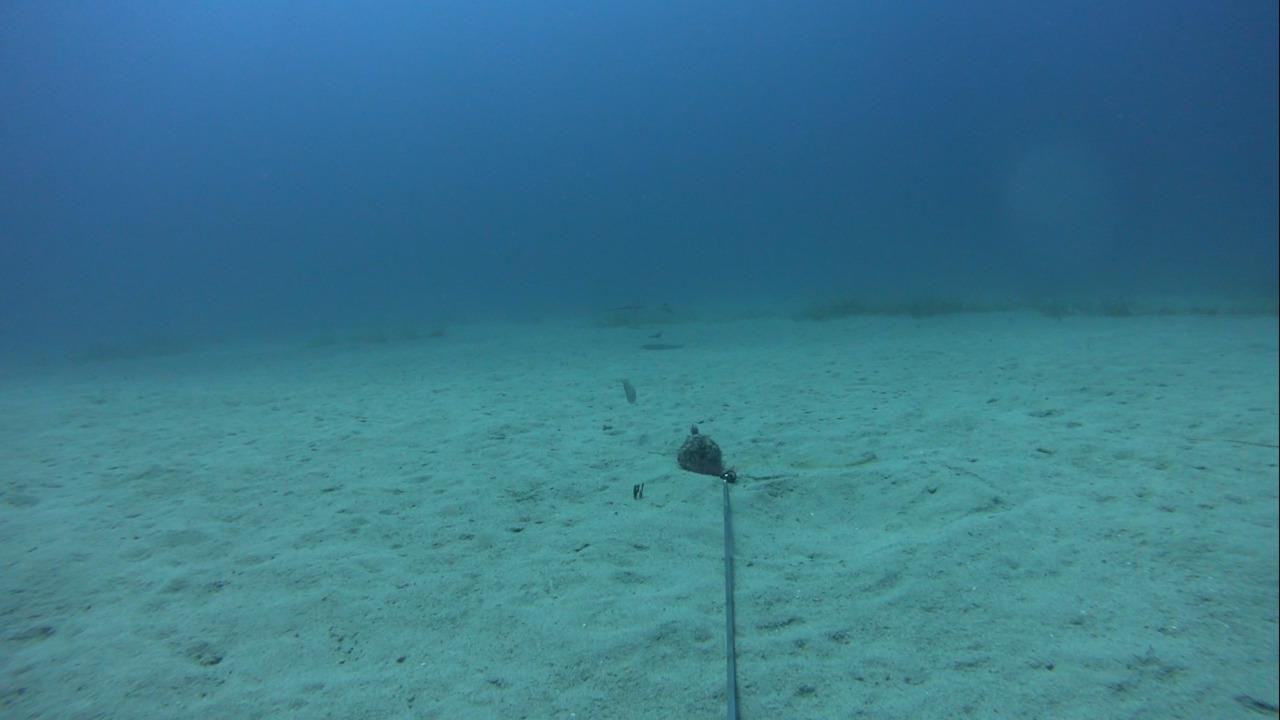myliobatis: (579, 297, 696, 331)
raor: (611, 367, 643, 409)
